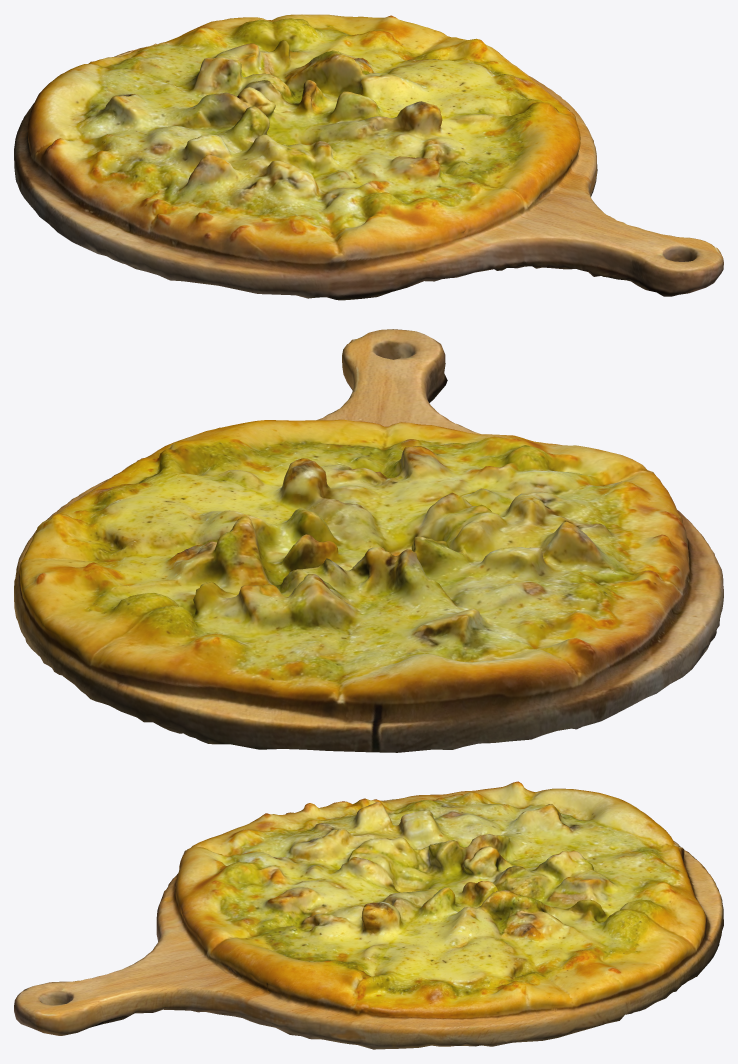
Rendered from 3DModel.obj.
3 views of the same model, one above another, from view 1: azimuth 30°, elevation 25°; view 2: azimuth 150°, elevation 25°; view 3: azimuth 270°, elevation 25° (orthographic). The views are drawn at different scales.
Parts seen in each view (by area): view 1: submesh; view 2: submesh; view 3: submesh.
Boxes of the visible parts, x1,y1,x2,y2 form: submesh: [14, 14, 723, 300]; submesh: [14, 329, 723, 752]; submesh: [14, 781, 723, 1049].
Size of the model in its own units: 0.3005 by 0.0486 by 0.38.
